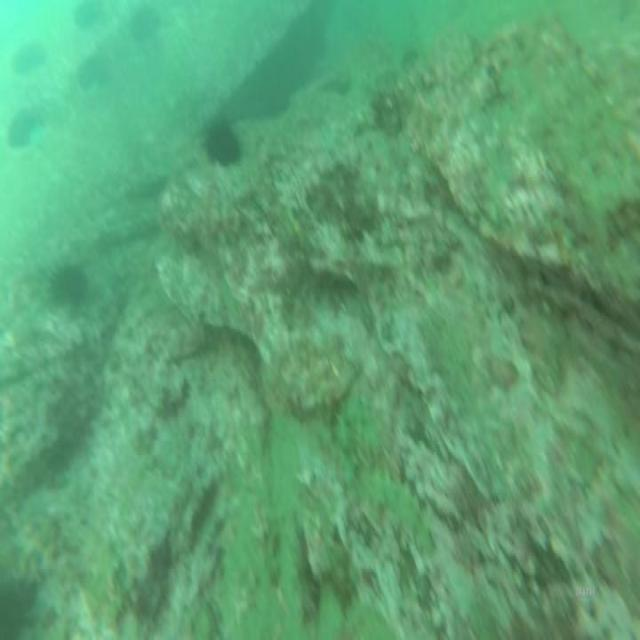echinus: (44, 256, 92, 308), (202, 114, 244, 172)
holothurian: (367, 464, 432, 558), (336, 399, 378, 456)
